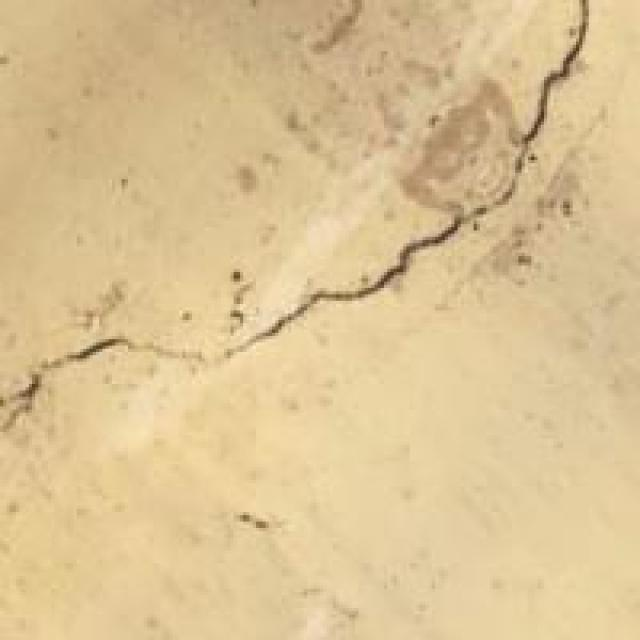crack: (6, 3, 592, 499)
